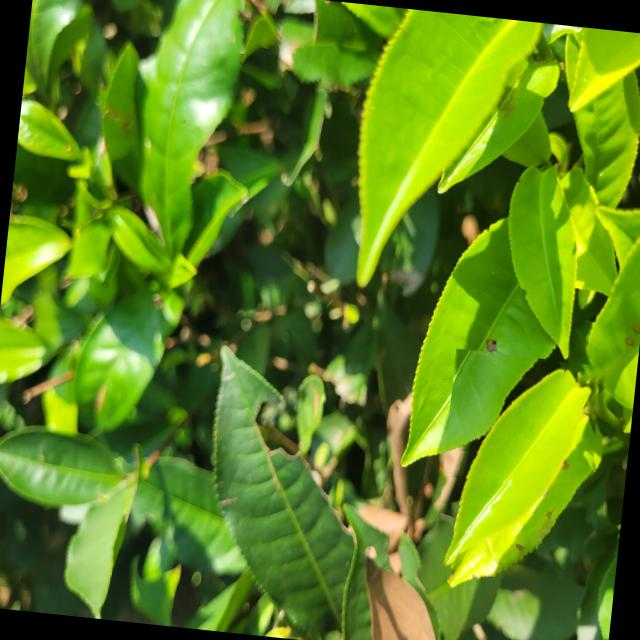Catagory A(1-2 days): (433, 347, 608, 585)
